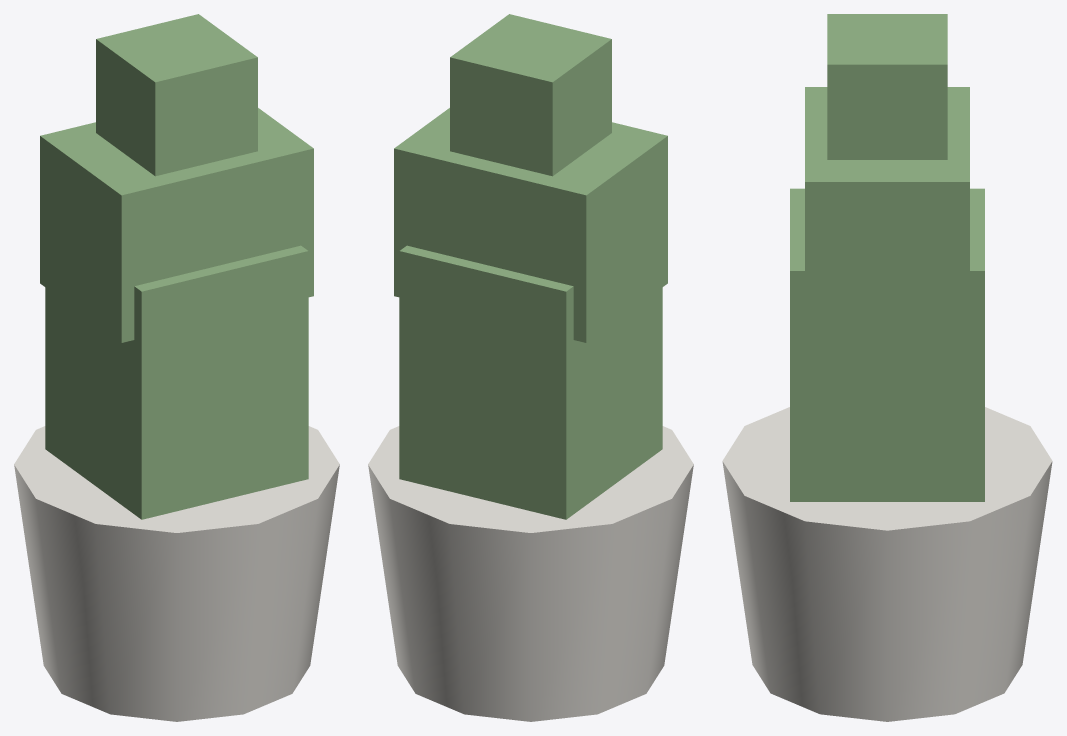
The model's file is mundane_plant.glb.
3 views of the same model, side by side, from view 1: azimuth 30°, elevation 25°; view 2: azimuth 150°, elevation 25°; view 3: azimuth 270°, elevation 25° (orthographic).
Size of the model in its own units: 0.44 by 0.92 by 0.44.
